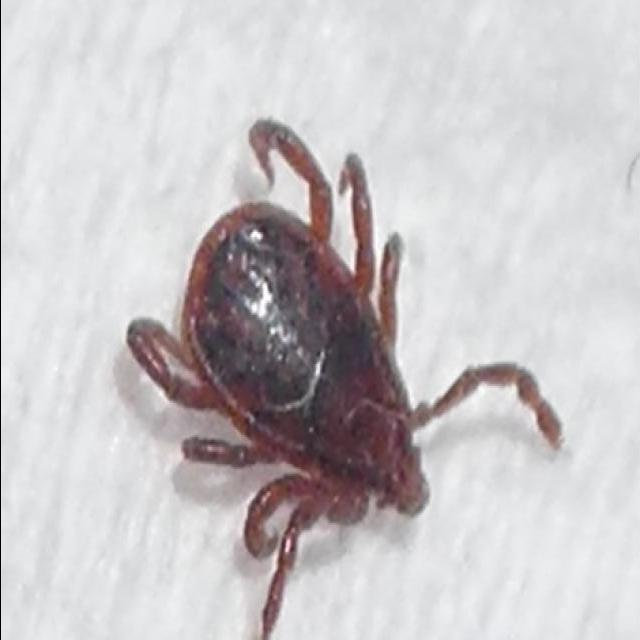Rhipicephalus Sanguineus-M: (124, 120, 564, 640)
